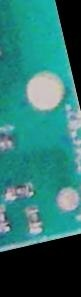chip-resistor: (0, 180, 35, 203), (21, 202, 44, 234)
